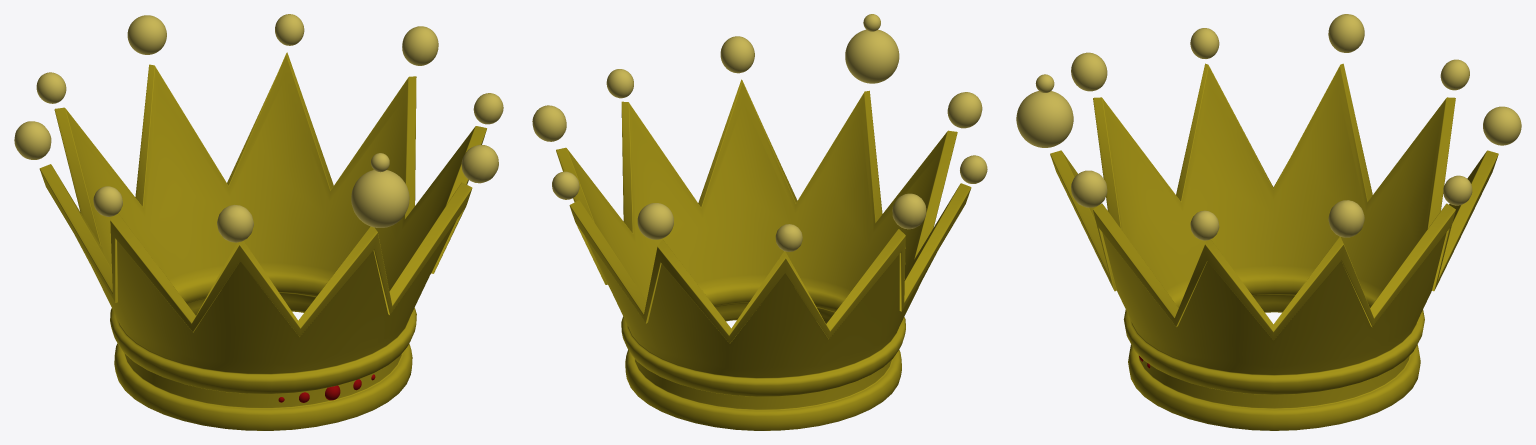
File: crown.fbx
The picture shows the model from 3 angles, left to right: view 1: azimuth 30°, elevation 25°; view 2: azimuth 150°, elevation 25°; view 3: azimuth 270°, elevation 25°; orthographic projection. The views are drawn at different scales.
Visible parts, largest first — view 1: crown; view 2: crown; view 3: crown.
Boxes of the visible parts, box(x1,y1,x2,y2) form: crown: box(14, 14, 503, 430); crown: box(532, 14, 987, 430); crown: box(1016, 14, 1521, 430).
Bounding box in the file's own units: 5.12 × 3.51 × 5.44.
